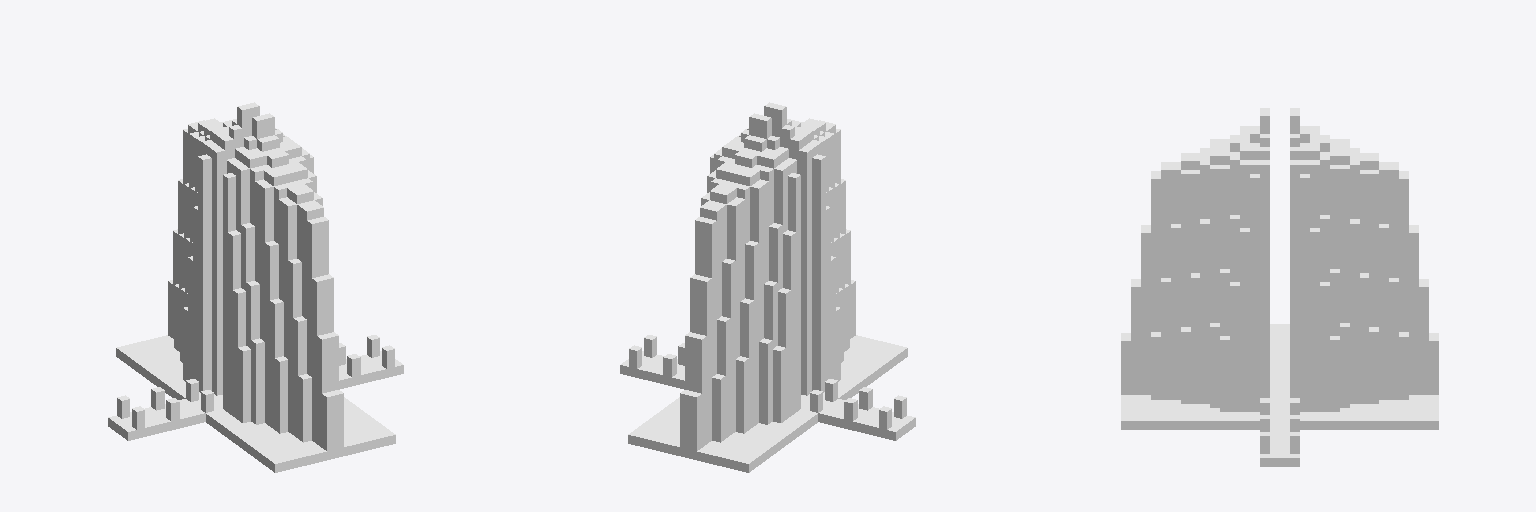
Rendered from obelisk2.obj.
3 views of the same model, side by side, from view 1: azimuth 30°, elevation 25°; view 2: azimuth 150°, elevation 25°; view 3: azimuth 270°, elevation 25° (orthographic).
Visible parts, largest first — view 1: object 1; view 2: object 1; view 3: object 1.
Boxes of the visible parts, box(x1,y1,x2,y2) form: object 1: box(108, 102, 403, 472); object 1: box(620, 102, 915, 472); object 1: box(1121, 108, 1438, 466).
Bounding box in the file's own units: 3.2 × 3.2 × 3.2.